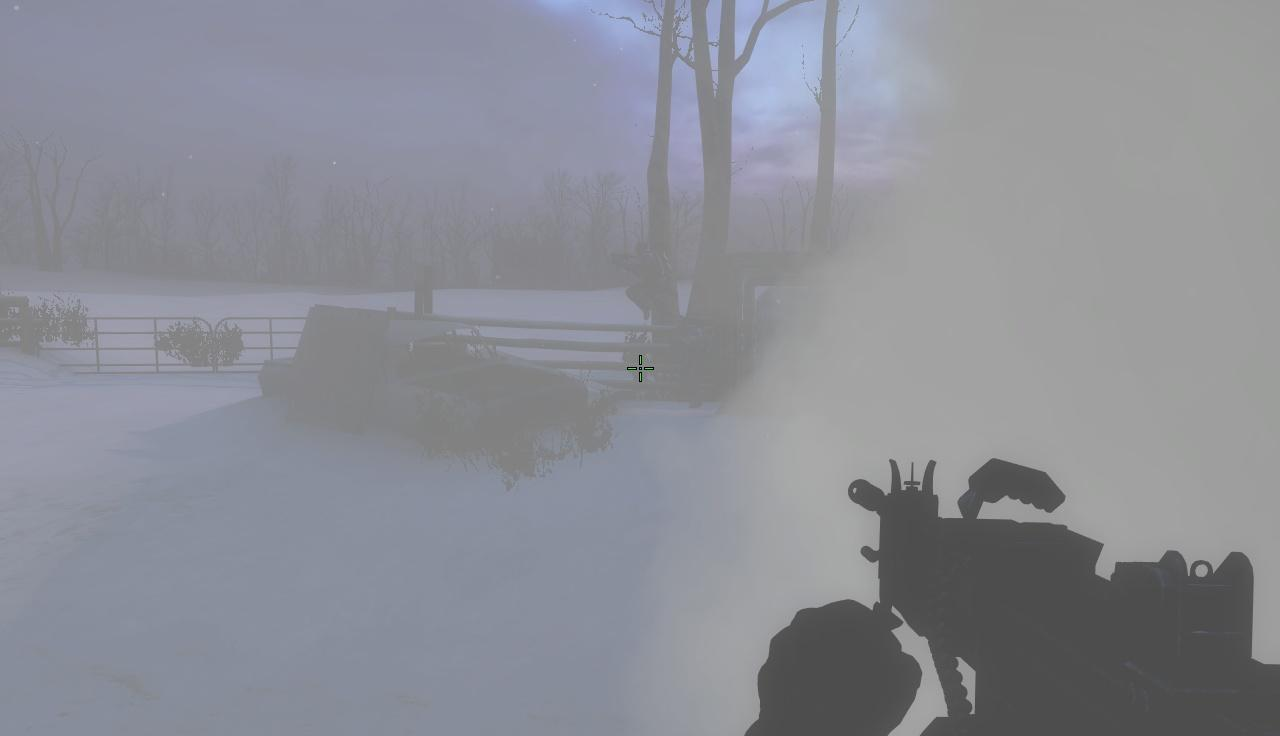ct: (627, 242, 670, 318)
cthead: (635, 243, 650, 257)
rifle: (842, 452, 1280, 736)
